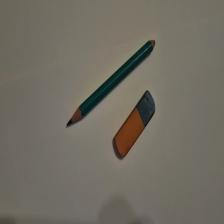eraser: (115, 90, 157, 159)
pencil: (68, 41, 157, 128)
